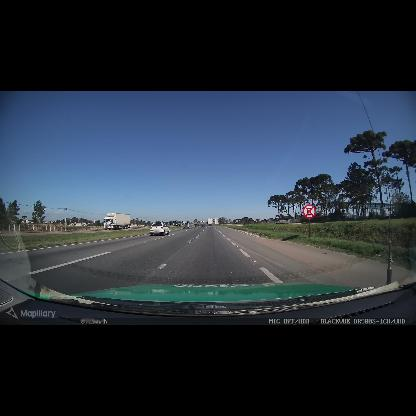R-6c: (303, 204, 316, 219)
